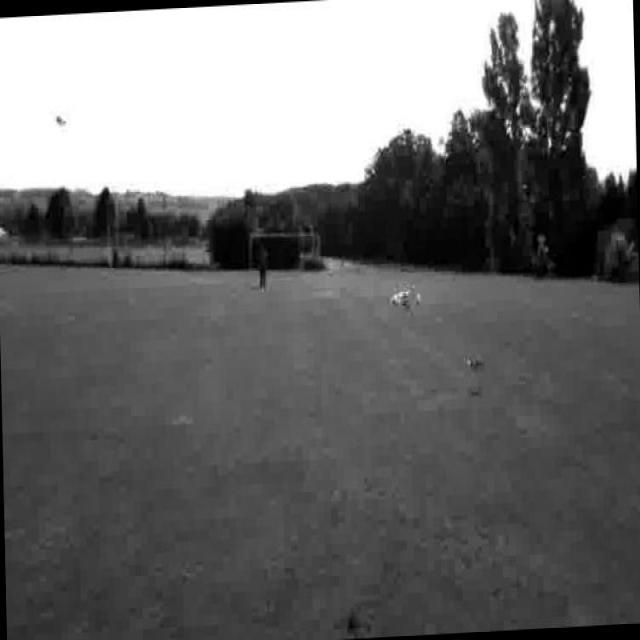drone: (386, 274, 424, 317)
